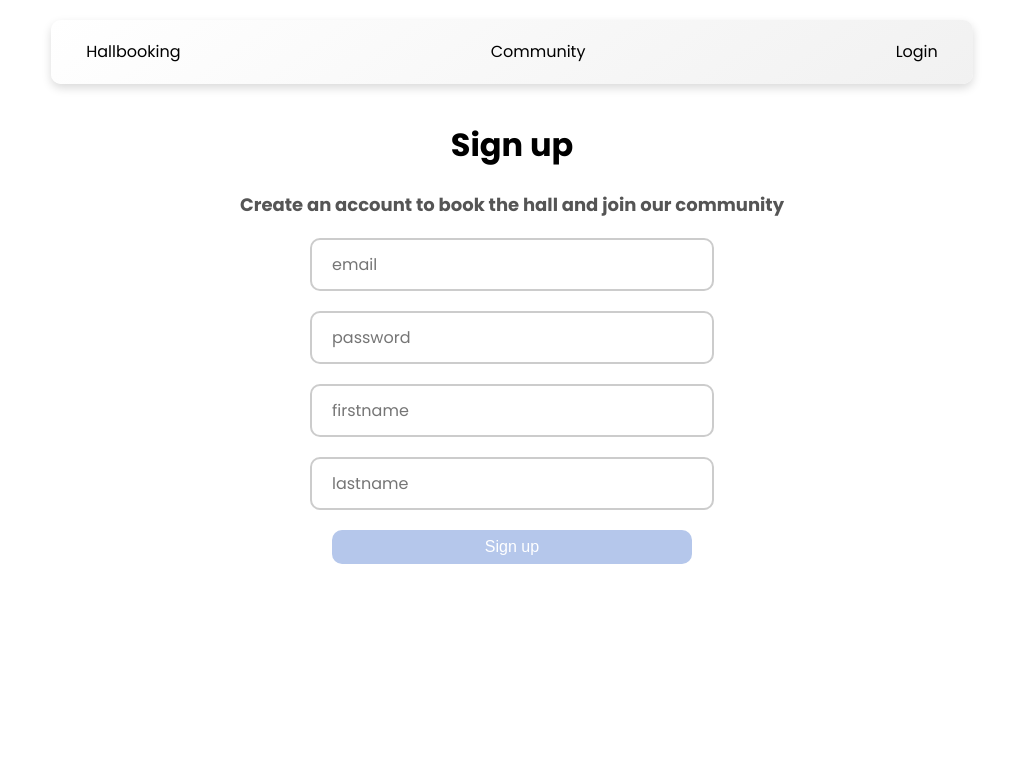
Registration Page › should show an error for invalid email format
The image size is (1024, 768).
Type "invalidemail" into the field named "email".
click(512, 265); type("invalidemail")  # box top-left (310, 238), bottom-right (714, 291)
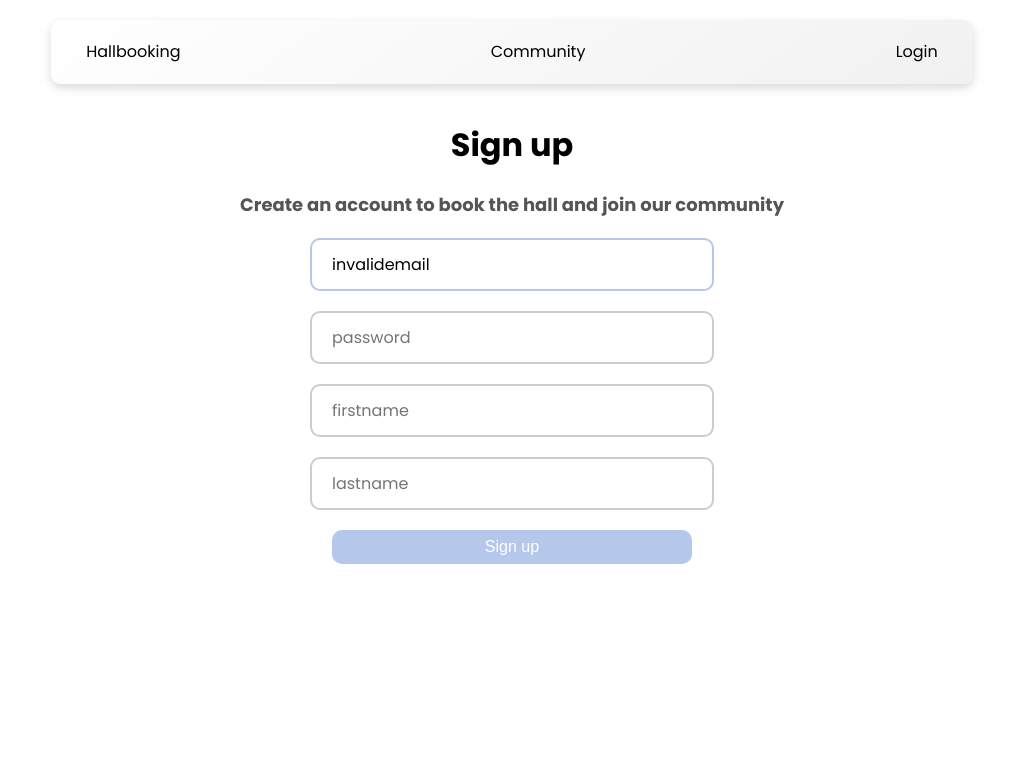
Type "password123" into the password field named "password".
click(512, 338); type("password123")  # box top-left (310, 311), bottom-right (714, 364)
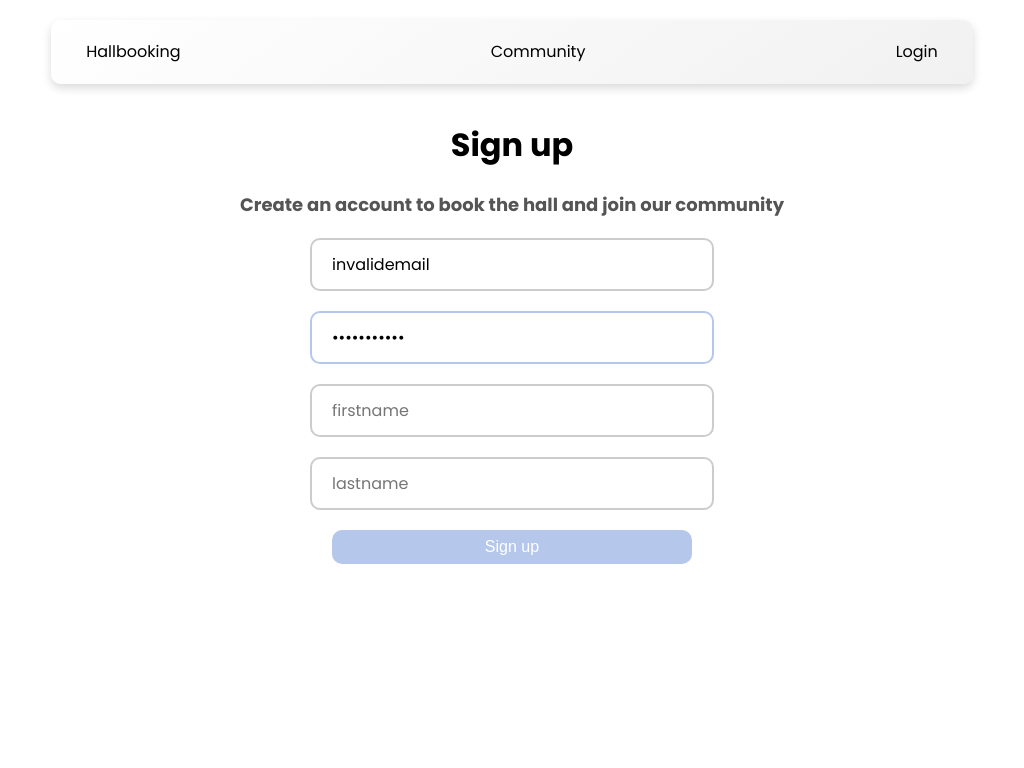
Type "John" into the field named "firstname".
click(512, 411); type("John")  # box top-left (310, 384), bottom-right (714, 437)
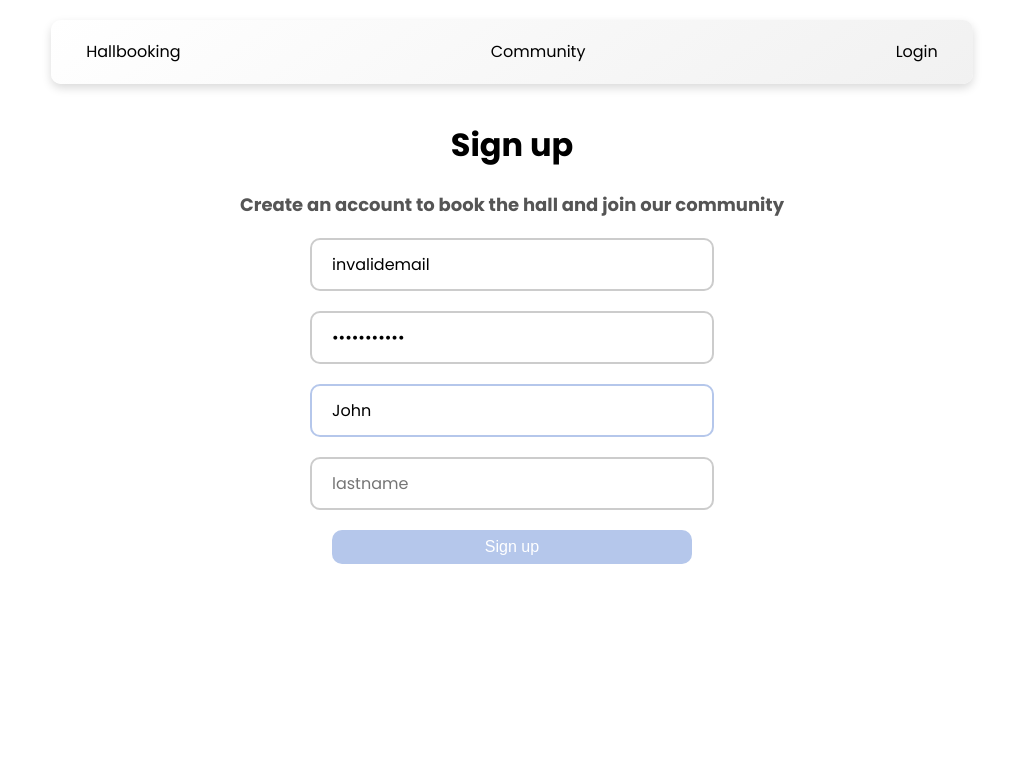
Type "Doe" into the field named "lastname".
click(512, 484); type("Doe")  # box top-left (310, 457), bottom-right (714, 510)
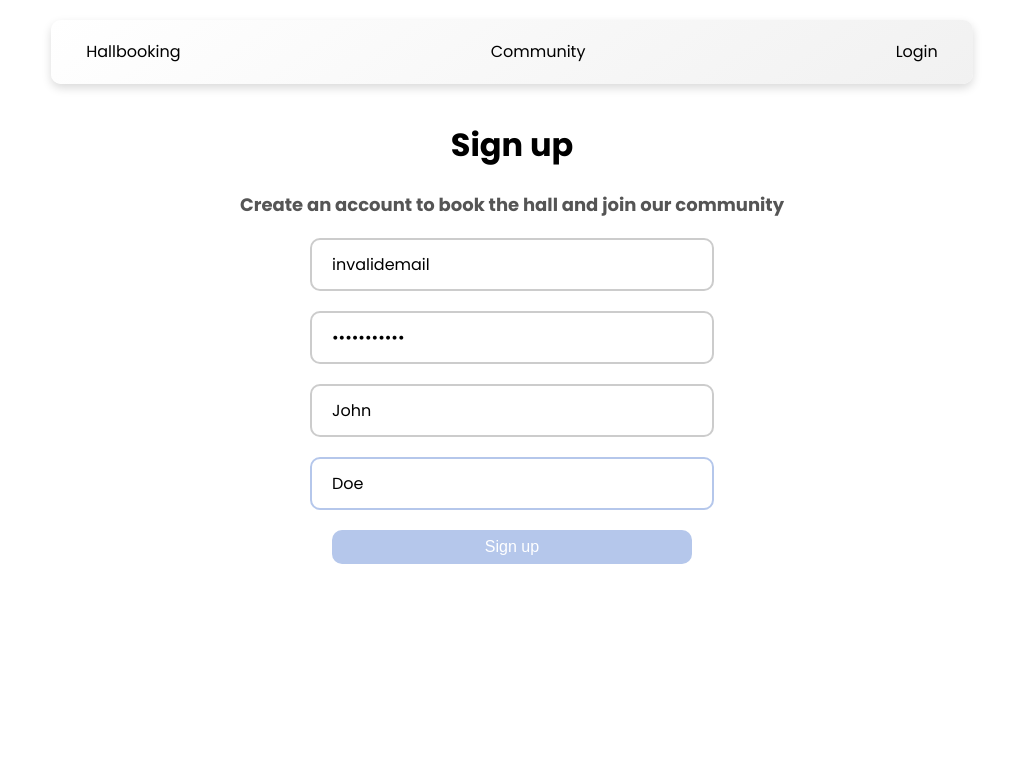
Click the button "Sign up".
click(512, 547)  # box top-left (332, 530), bottom-right (692, 564)
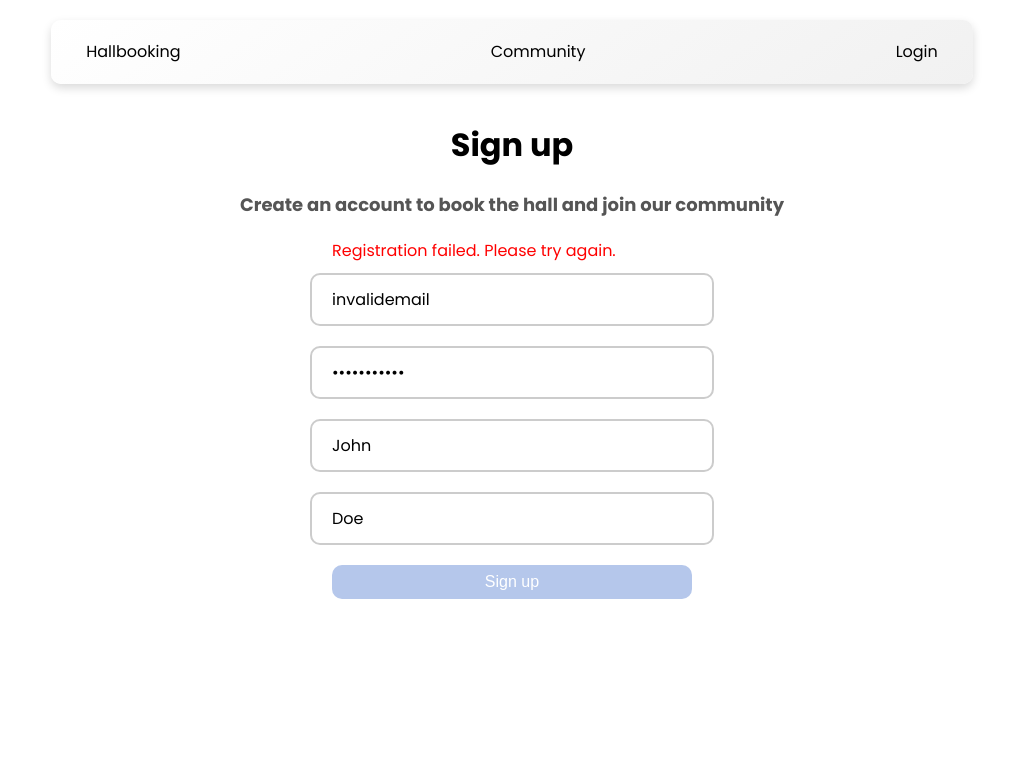
Now the text with class "error-message" shows "Registration failed. Please try again", box top-left (332, 239), bottom-right (616, 262)
